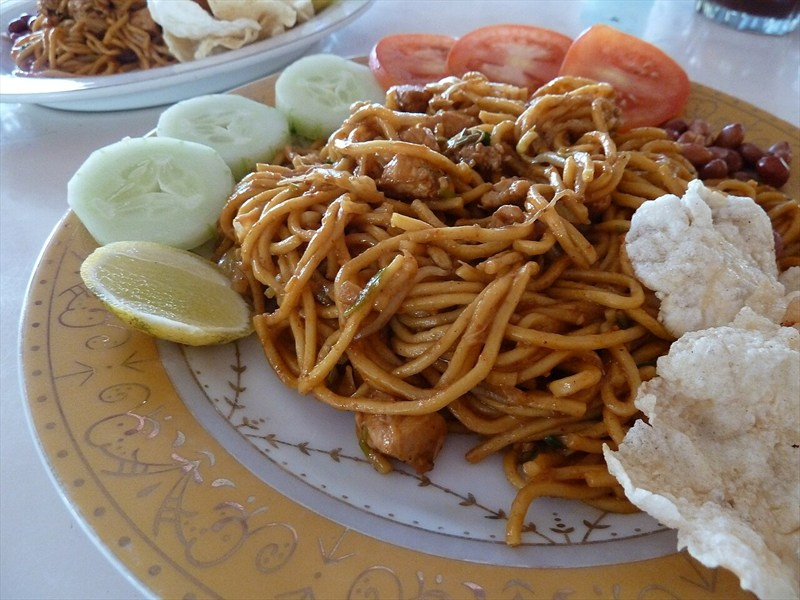Mie Goreng: (217, 89, 678, 466)
